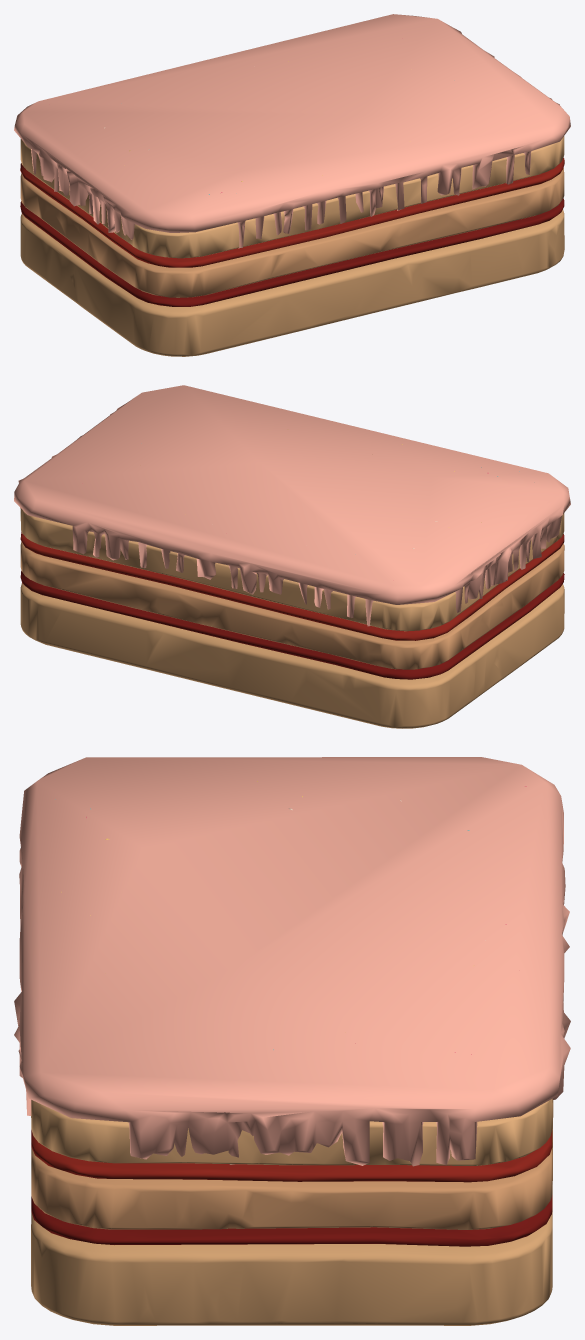
File: cake-mesa-shelf-lod.glb
The picture shows the model from 3 angles, top to bottom: view 1: azimuth 30°, elevation 25°; view 2: azimuth 150°, elevation 25°; view 3: azimuth 270°, elevation 25°; orthographic projection. The views are drawn at different scales.
Parts seen in each view (by area): view 1: Rounded poured strawberry frosting.001 low candidate, Golden sponge bottom.001 low candidate, Golden sponge lower.001 low candidate, Golden sponge upper.001 low candidate, Raspberry jam deep.001 low candidate, Raspberry jam ribbon.001 low candidate; view 2: Rounded poured strawberry frosting.001 low candidate, Golden sponge bottom.001 low candidate, Golden sponge lower.001 low candidate, Golden sponge upper.001 low candidate, Raspberry jam deep.001 low candidate, Raspberry jam ribbon.001 low candidate; view 3: Rounded poured strawberry frosting.001 low candidate, Golden sponge bottom.001 low candidate, Golden sponge lower.001 low candidate, Golden sponge upper.001 low candidate, Raspberry jam ribbon.001 low candidate, Raspberry jam deep.001 low candidate.
Part boxes in pixels (x1,y1,x2,y2): Rounded poured strawberry frosting.001 low candidate: (14,14,570,248); Golden sponge bottom.001 low candidate: (20,209,564,356); Golden sponge lower.001 low candidate: (20,168,564,297); Golden sponge upper.001 low candidate: (20,136,564,258); Raspberry jam deep.001 low candidate: (20,198,564,306); Raspberry jam ribbon.001 low candidate: (20,158,564,267); Rounded poured strawberry frosting.001 low candidate: (14,385,570,626); Golden sponge bottom.001 low candidate: (20,583,564,728); Golden sponge lower.001 low candidate: (20,541,564,669); Golden sponge upper.001 low candidate: (20,508,564,631); Raspberry jam deep.001 low candidate: (20,571,564,679); Raspberry jam ribbon.001 low candidate: (20,531,564,640); Rounded poured strawberry frosting.001 low candidate: (14,757,570,1166); Golden sponge bottom.001 low candidate: (31,1100,553,1325); Golden sponge lower.001 low candidate: (31,1100,552,1229); Golden sponge upper.001 low candidate: (31,1098,552,1165); Raspberry jam ribbon.001 low candidate: (31,1130,552,1182); Raspberry jam deep.001 low candidate: (31,1195,552,1246).
Bounding box in the file's own units: 13.18 × 4.2 × 8.74.
